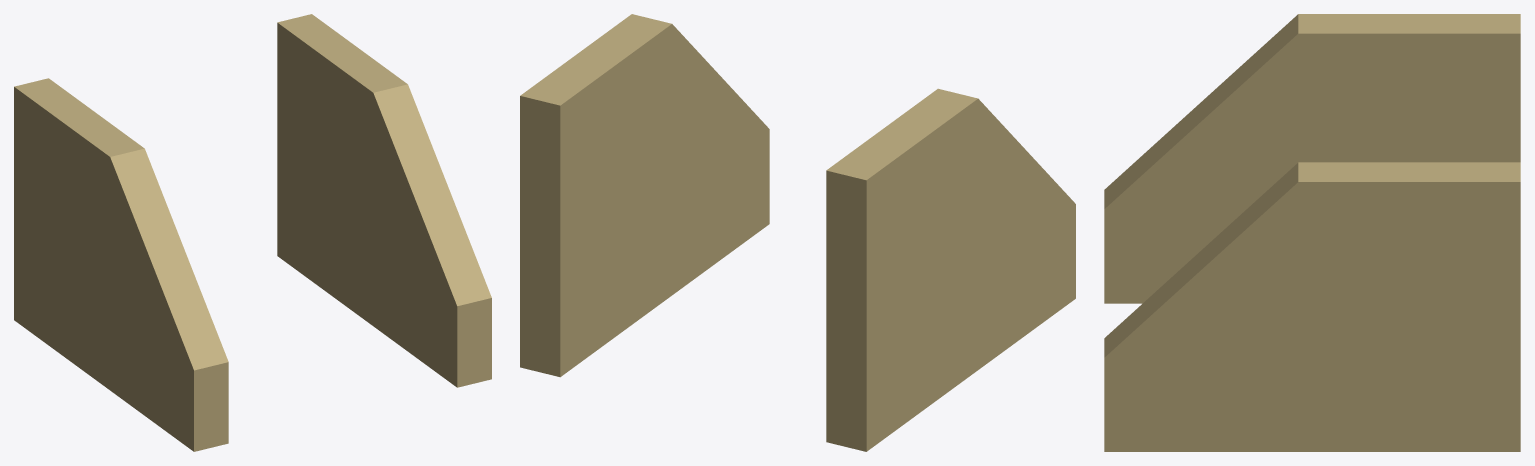
File: Stand.fbx
The picture shows the model from 3 angles, left to right: view 1: azimuth 30°, elevation 25°; view 2: azimuth 150°, elevation 25°; view 3: azimuth 270°, elevation 25°; orthographic projection. The views are drawn at different scales.
Parts seen in each view (by area): view 1: Cube; view 2: Cube; view 3: Cube.
Boxes of the visible parts, <box> form: Cube: <box>14,14,491,451</box>; Cube: <box>520,14,1075,451</box>; Cube: <box>1104,14,1520,451</box>.
Size of the model in its own units: 3.91 by 2.93 by 4.09.
Materials: 1 (1 with a texture image).
